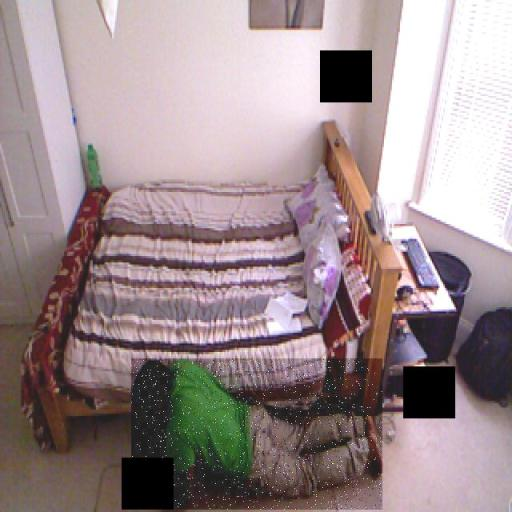Fall: (132, 359, 383, 510)
